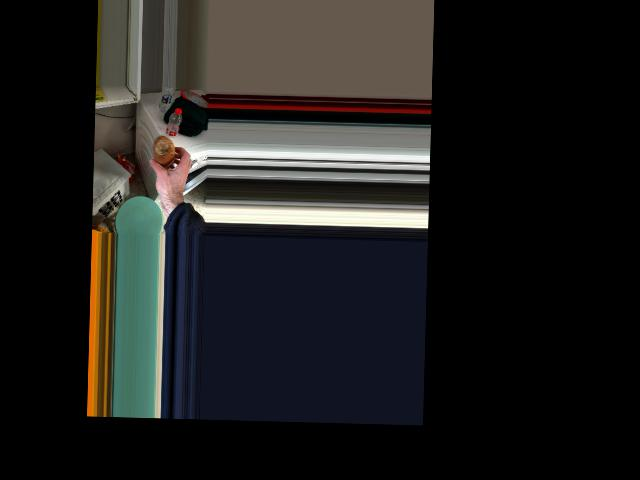sweet_potato: (148, 133, 177, 172)
